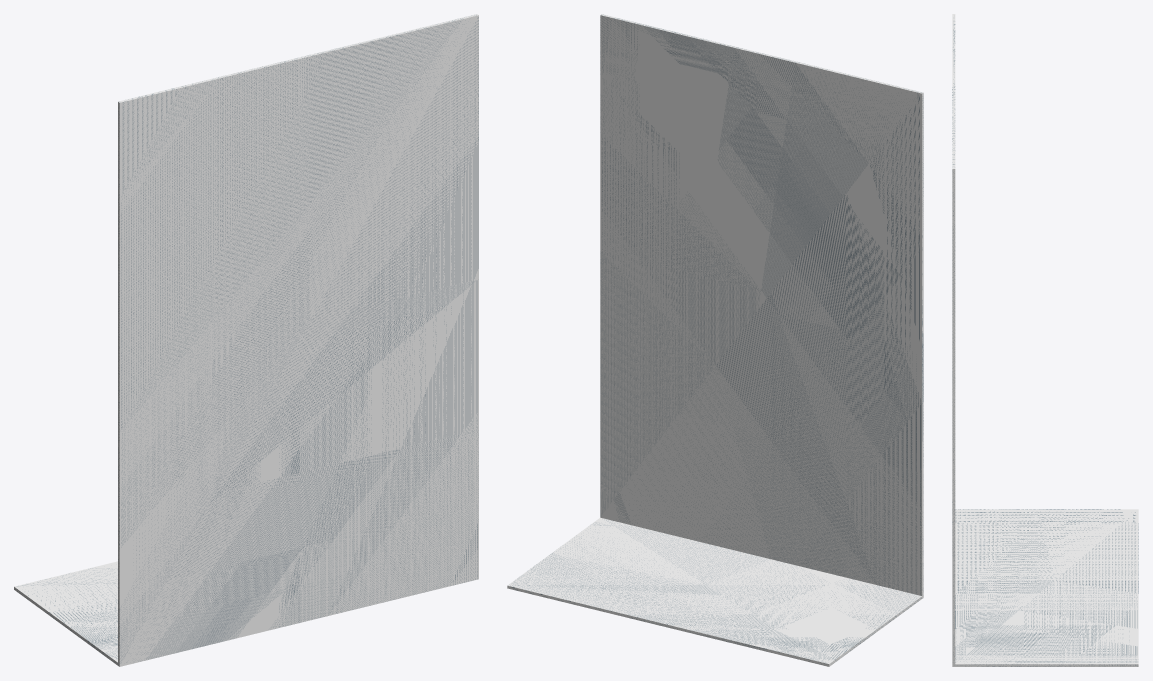
The model's file is IconicShelf.dae.
3 views of the same model, side by side, from view 1: azimuth 30°, elevation 25°; view 2: azimuth 150°, elevation 25°; view 3: azimuth 270°, elevation 25° (orthographic). The views are drawn at different scales.
Parts seen in each view (by area): view 1: SketchUp; view 2: SketchUp; view 3: SketchUp.
Boxes of the visible parts, left/top/right/bottom form: SketchUp: left=14, top=14, right=478, bottom=666; SketchUp: left=507, top=14, right=923, bottom=666; SketchUp: left=952, top=14, right=1138, bottom=666.
Size of the model in its own units: 11.81 by 6 by 17.72.
